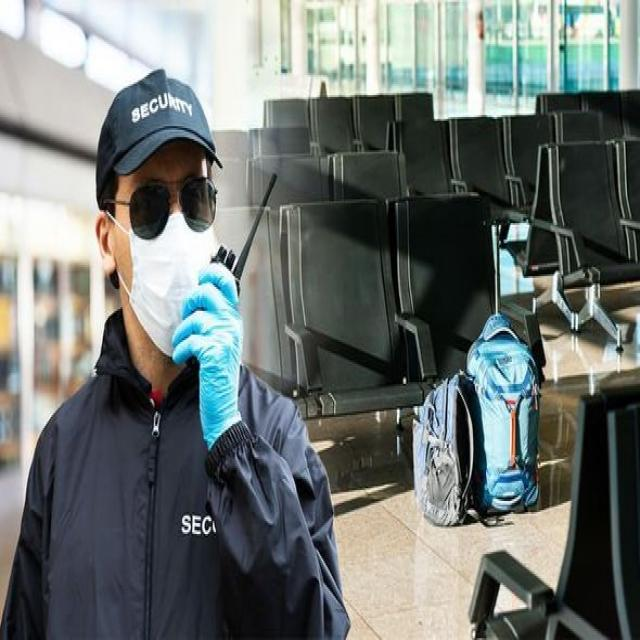Backpacks: (468, 314, 542, 516), (408, 368, 478, 526)
